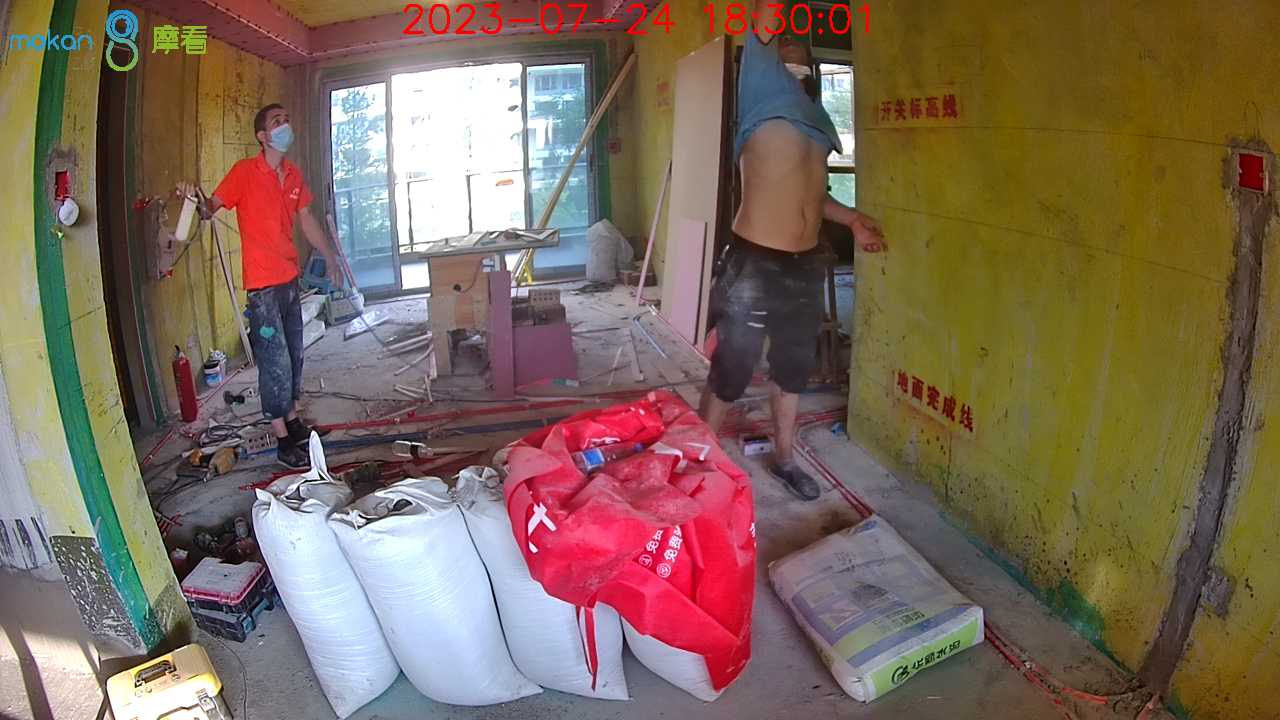people: (686, 5, 891, 464), (194, 104, 346, 468)
window: (329, 85, 601, 292)
